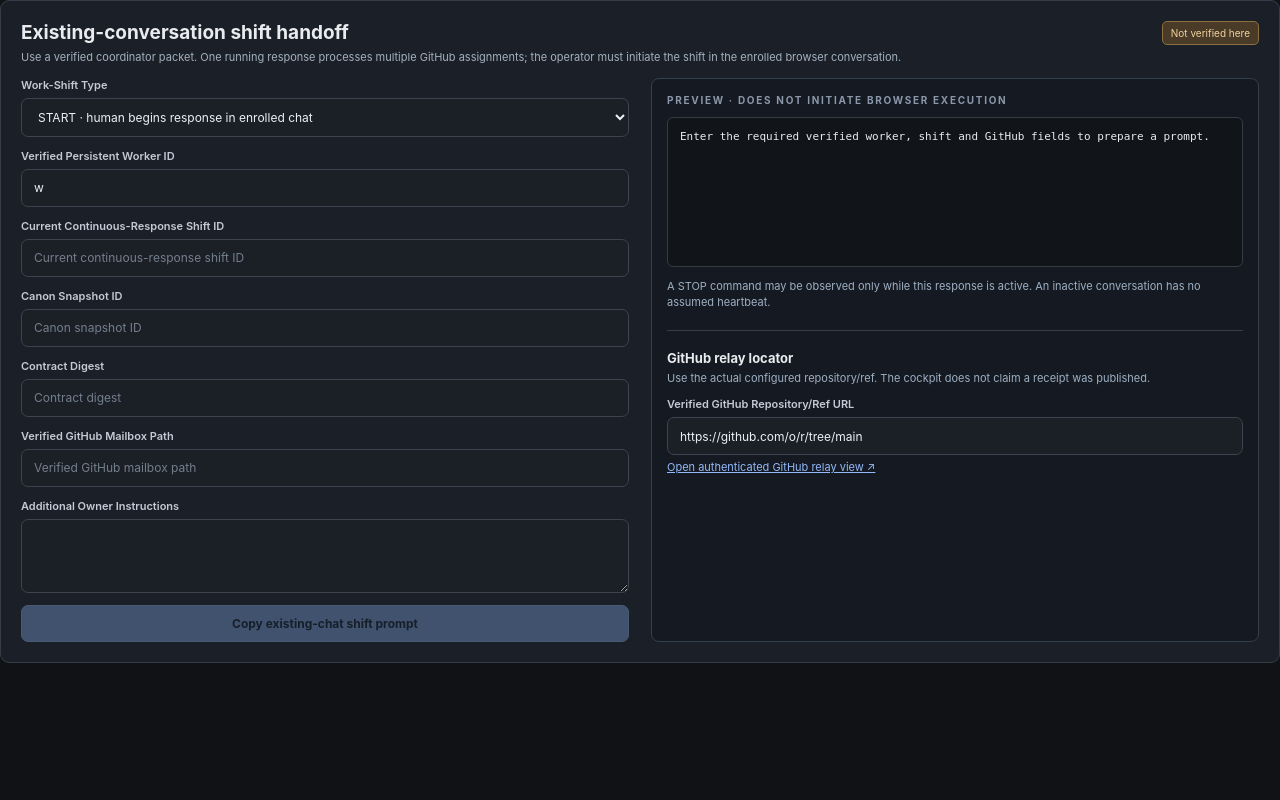
Test: creates a verified existing-chat handoff without pretending to start a model
Expected: the link "Open authenticated GitHub relay view ↗" is shown, [667,460,875,474]
Select "RESUME · human begins another response in existing chat" in the dropdown: {"x": 325, "y": 117} [21,98,629,136]
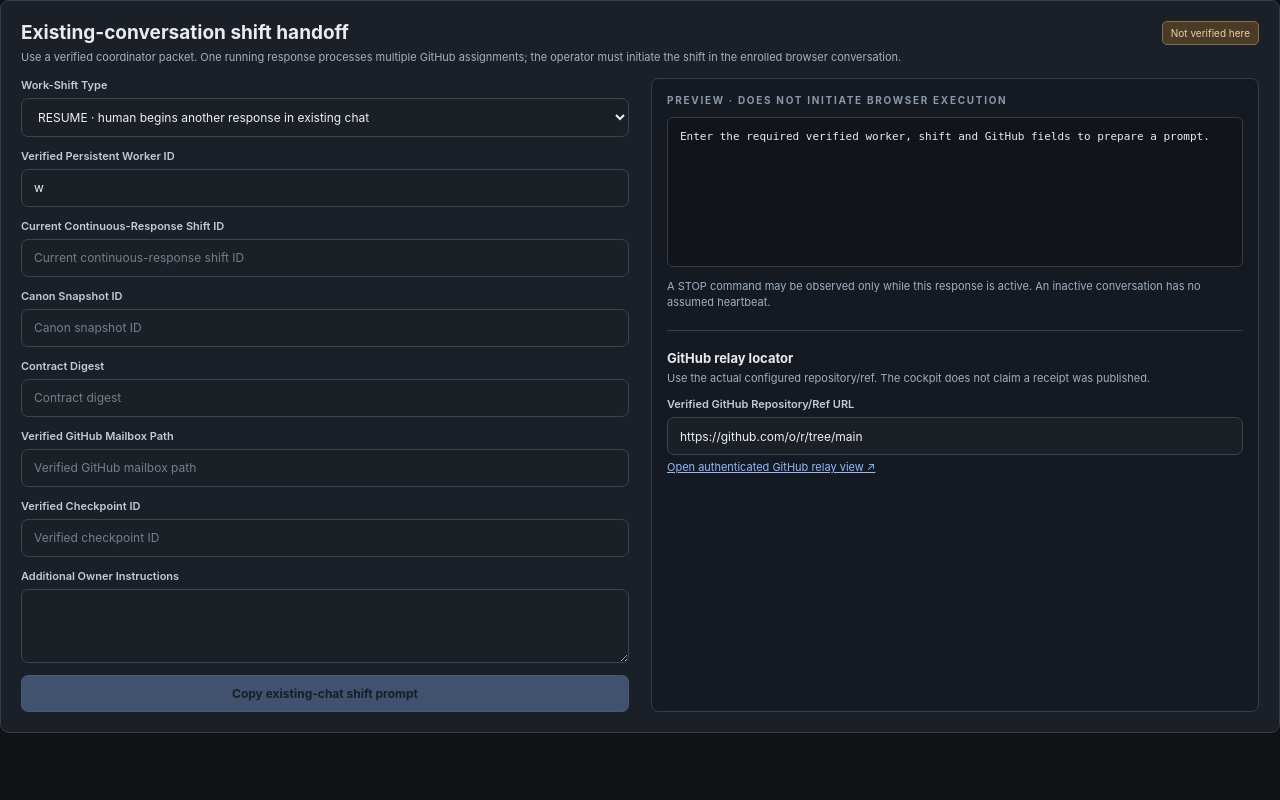
Expected: the text "Verified checkpoint ID" is shown, [21,498,140,512]
